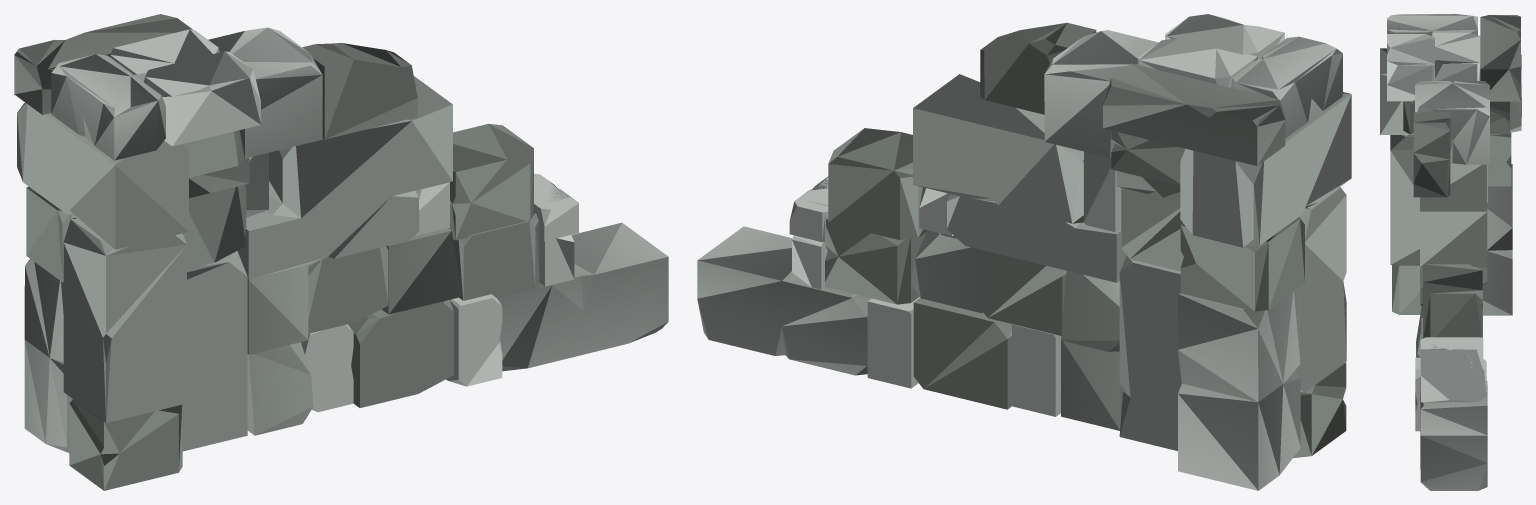
The model's file is ZLP_Build_D_40.FBX.
The picture shows the model from 3 angles, left to right: view 1: azimuth 30°, elevation 25°; view 2: azimuth 150°, elevation 25°; view 3: azimuth 270°, elevation 25°; orthographic projection. The views are drawn at different scales.
Parts seen in each view (by area): view 1: ZLP_Build_D_40; view 2: ZLP_Build_D_40; view 3: ZLP_Build_D_40.
Boxes of the visible parts, box(x1,y1,x2,y2) form: ZLP_Build_D_40: box(14, 14, 668, 490); ZLP_Build_D_40: box(697, 14, 1351, 490); ZLP_Build_D_40: box(1380, 14, 1521, 490).
Size of the model in its own units: 304 by 189 by 88.61.
